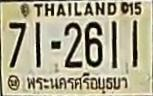1: (132, 20, 138, 66), (34, 22, 40, 68), (111, 20, 116, 68)
2: (63, 22, 82, 67)
6: (84, 21, 102, 66)
7: (8, 22, 25, 68)
AYA: (25, 70, 130, 94)
